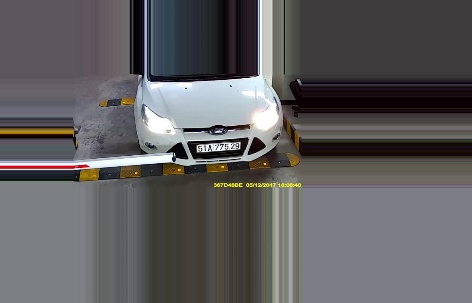plate: (192, 139, 242, 151)
